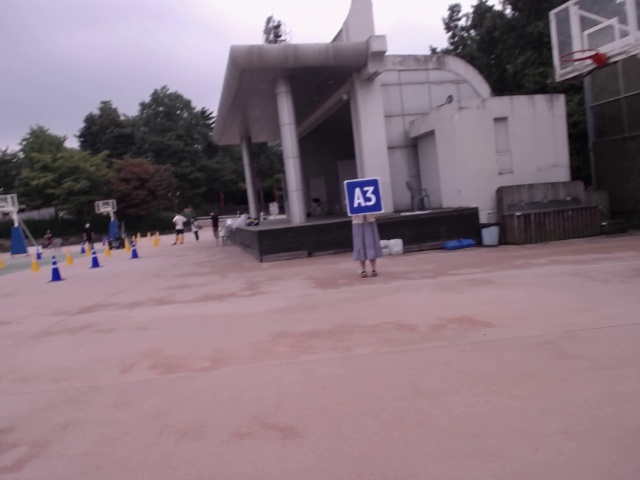delivery_a3: (345, 178, 383, 215)
